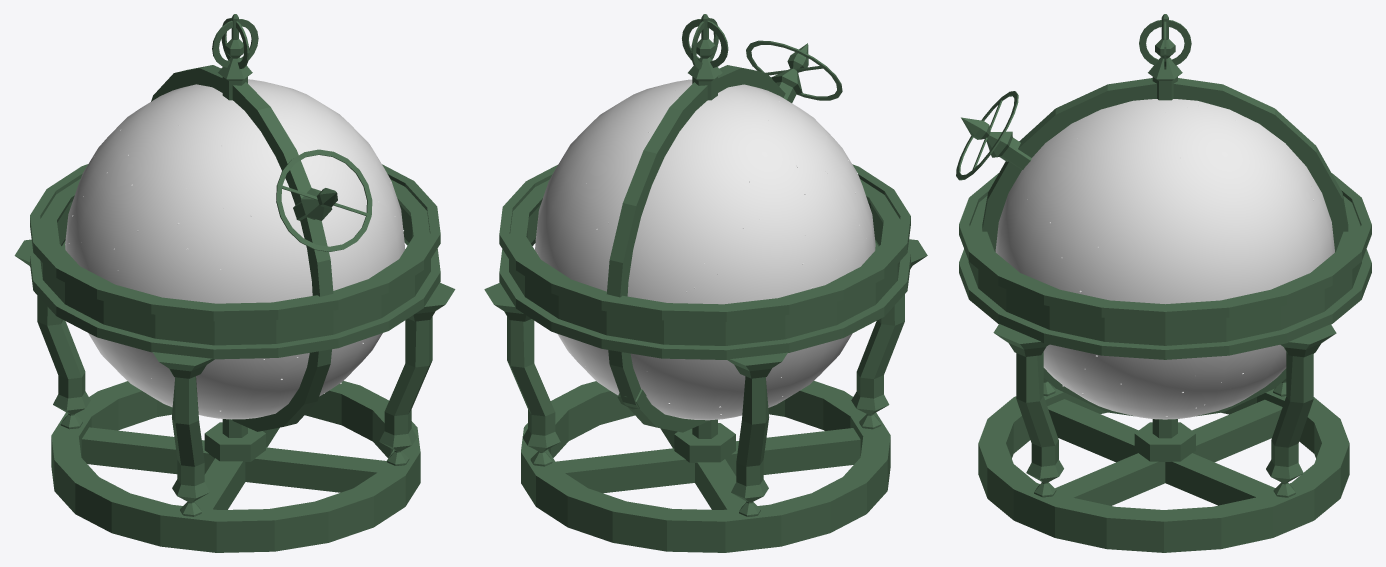
Rendered from 天球仪菱形.fbx.
3 views of the same model, side by side, from view 1: azimuth 30°, elevation 25°; view 2: azimuth 150°, elevation 25°; view 3: azimuth 270°, elevation 25° (orthographic).
Visible parts, largest first — view 1: 星空菱形.001, 柱体.023, 圆环.001, 立方体.009, 柱体.025, 脚脚.022, 脚脚.020, 脚脚.023, 柱体.024, 柱体.029, 柱体.028, 柱体.027; view 2: 星空菱形.001, 柱体.023, 圆环.001, 立方体.009, 柱体.025, 脚脚.021, 脚脚.023, 脚脚.020, 柱体.024, 柱体.028, 柱体.029, 柱体.027; view 3: 星空菱形.001, 柱体.023, 圆环.001, 立方体.009, 柱体.025, 脚脚.021, 脚脚.022, 柱体.024, 柱体.028, 柱体.029, 柱体.026.
Part boxes in pixels (<box>): 星空菱形.001: <box>65,79,405,419</box>; 柱体.023: <box>30,164,440,359</box>; 圆环.001: <box>51,381,420,552</box>; 立方体.009: <box>81,427,386,509</box>; 柱体.025: <box>151,65,333,431</box>; 脚脚.022: <box>379,283,455,465</box>; 脚脚.020: <box>152,352,214,516</box>; 脚脚.023: <box>14,239,90,429</box>; 柱体.024: <box>204,14,265,461</box>; 柱体.029: <box>276,149,372,251</box>; 柱体.028: <box>293,188,337,220</box>; 柱体.027: <box>212,19,258,67</box>; 星空菱形.001: <box>535,79,875,420</box>; 柱体.023: <box>499,164,910,359</box>; 圆环.001: <box>521,381,890,552</box>; 立方体.009: <box>556,428,860,509</box>; 柱体.025: <box>607,65,785,432</box>; 脚脚.021: <box>484,283,560,466</box>; 脚脚.023: <box>727,352,787,516</box>; 脚脚.020: <box>851,239,927,429</box>; 柱体.024: <box>674,14,735,462</box>; 柱体.028: <box>617,43,808,409</box>; 柱体.029: <box>746,40,842,100</box>; 柱体.027: <box>682,19,728,67</box>; 星空菱形.001: <box>995,99,1334,419</box>; 柱体.023: <box>959,173,1371,359</box>; 圆环.001: <box>978,383,1349,552</box>; 立方体.009: <box>1047,399,1282,505</box>; 柱体.025: <box>982,78,1348,416</box>; 脚脚.021: <box>1266,324,1336,497</box>; 脚脚.022: <box>993,324,1063,497</box>; 柱体.024: <box>1134,14,1195,461</box>; 柱体.028: <box>961,117,1314,353</box>; 柱体.029: <box>956,91,1018,180</box>; 柱体.026: <box>1139,20,1191,65</box>.
Size of the model in its own units: 2060 by 2530 by 2074.
